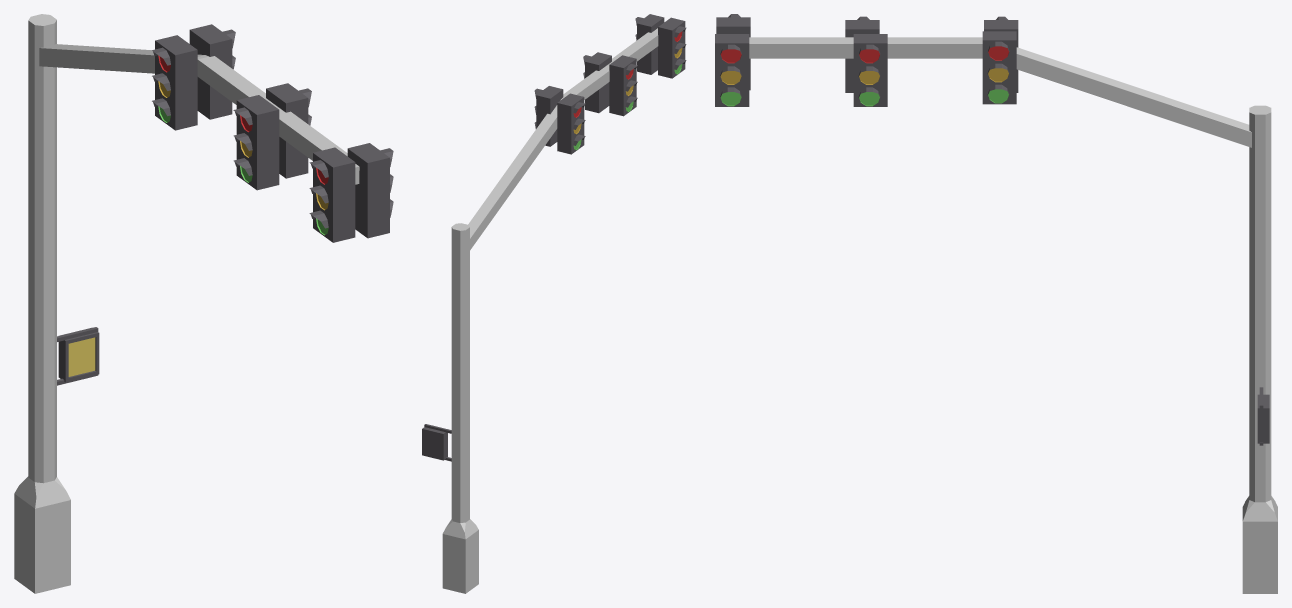
The model's file is traffic light.fbx.
3 renders of one model, left to right at view 1: azimuth 30°, elevation 25°; view 2: azimuth 150°, elevation 25°; view 3: azimuth 270°, elevation 25°, orthographic. The views are drawn at different scales.
Parts seen in each view (by area): view 1: Cube, Cube.001, Cube.003, Cube.002; view 2: Cube, Cube.002, Cube.001, Cube.003; view 3: Cube, Cube.002, Cube.001, Cube.003.
Part boxes in pixels (x1,y1,x2,y2): Cube: [14, 14, 359, 593]; Cube.001: [309, 143, 393, 242]; Cube.003: [152, 24, 235, 130]; Cube.002: [233, 83, 311, 190]; Cube: [422, 28, 658, 593]; Cube.002: [583, 52, 637, 116]; Cube.001: [635, 14, 686, 78]; Cube.003: [534, 86, 585, 154]; Cube: [749, 37, 1277, 593]; Cube.002: [845, 16, 887, 106]; Cube.001: [715, 14, 750, 106]; Cube.003: [982, 16, 1018, 104].
Size of the model in its own units: 135 by 875 by 802.
